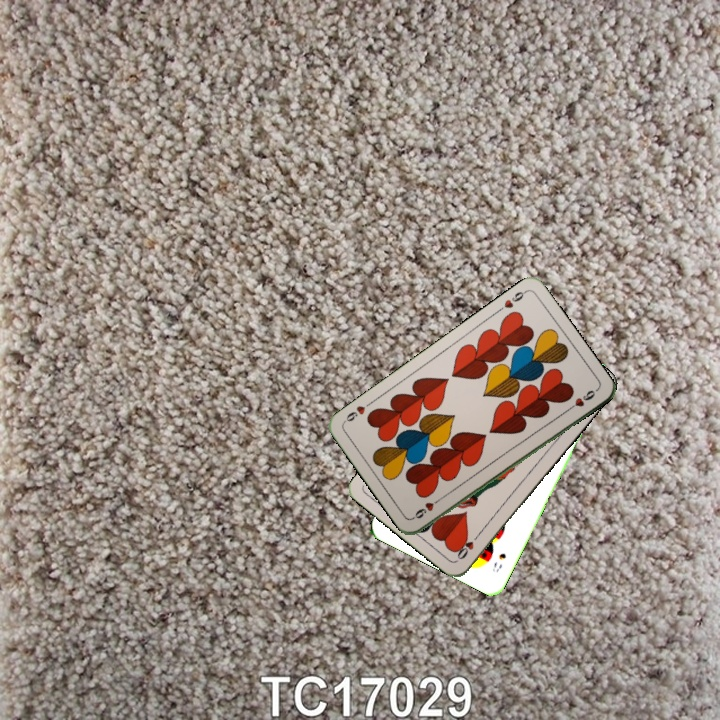H9: (409, 493, 445, 521), (493, 287, 529, 315)
HO: (453, 528, 483, 562)
S8: (488, 549, 509, 575)
